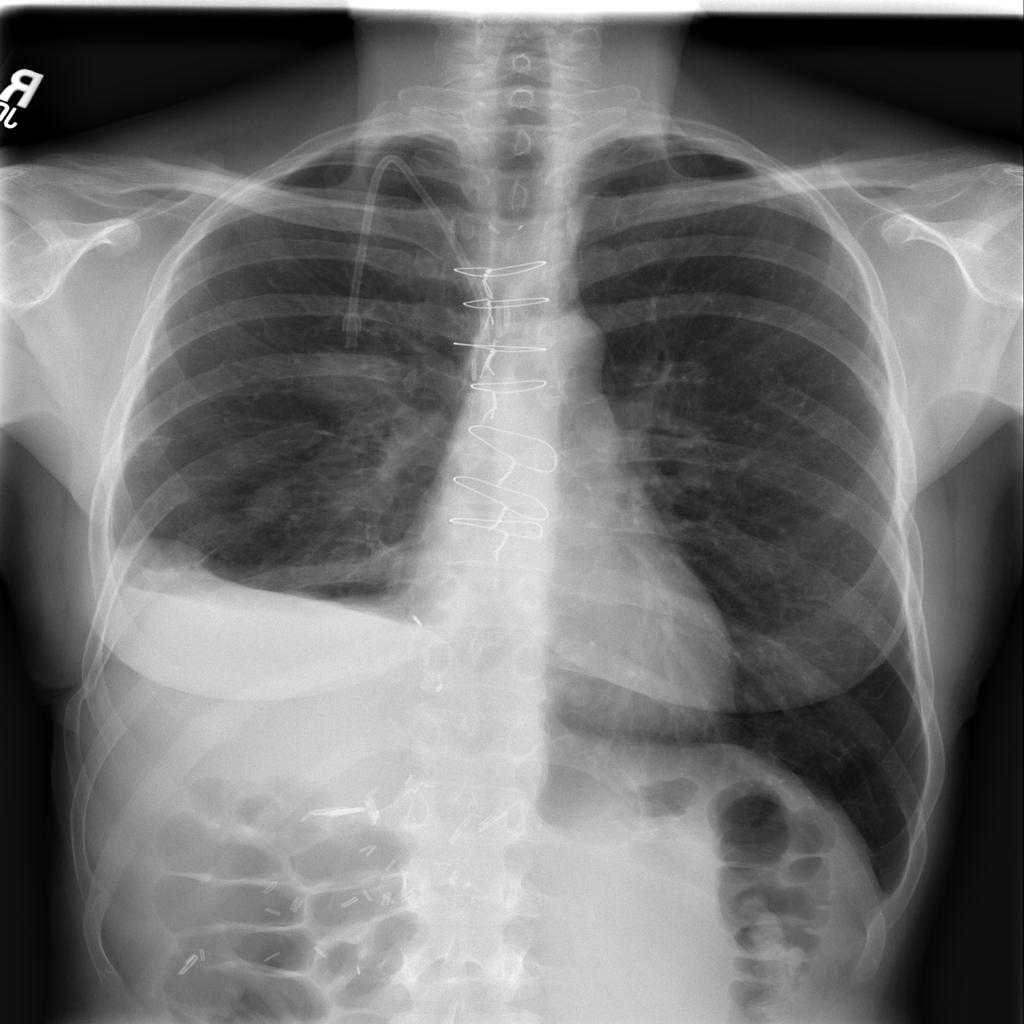nodule: (286, 332, 426, 428), (229, 474, 310, 534), (207, 435, 263, 479)
